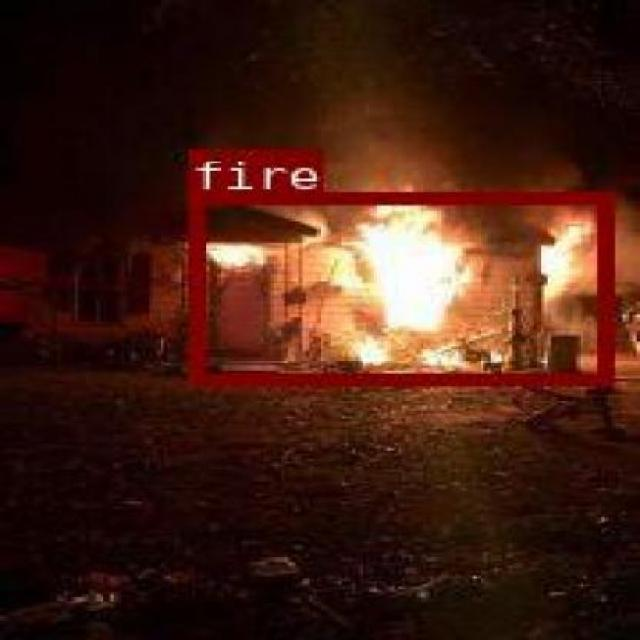Fire: (203, 180, 625, 368)
